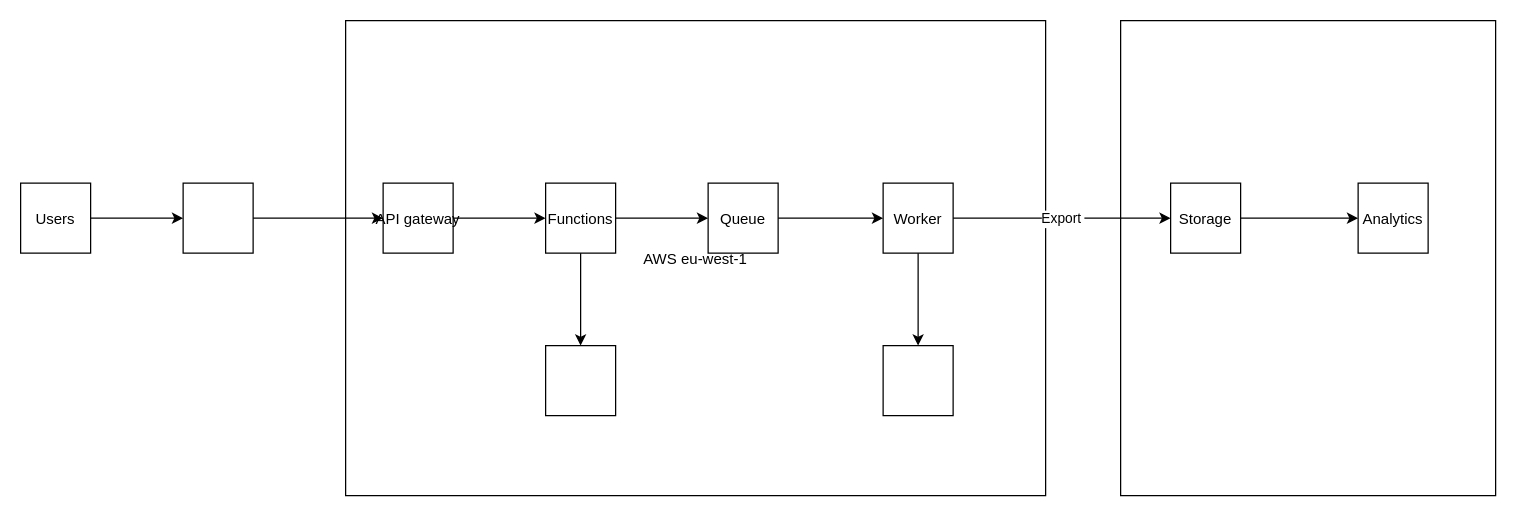
The diagram is 1516 pixels wide and 516 high, and some of its shapes have lost their labels. The box of each missing label's shape, as (x1, y1, x2, y2) in pixels:
CDN: (182, 182, 253, 253)
Database: (544, 344, 616, 416)
Google Cloud europe-north1: (1119, 19, 1496, 496)
Secrets: (882, 344, 953, 416)
